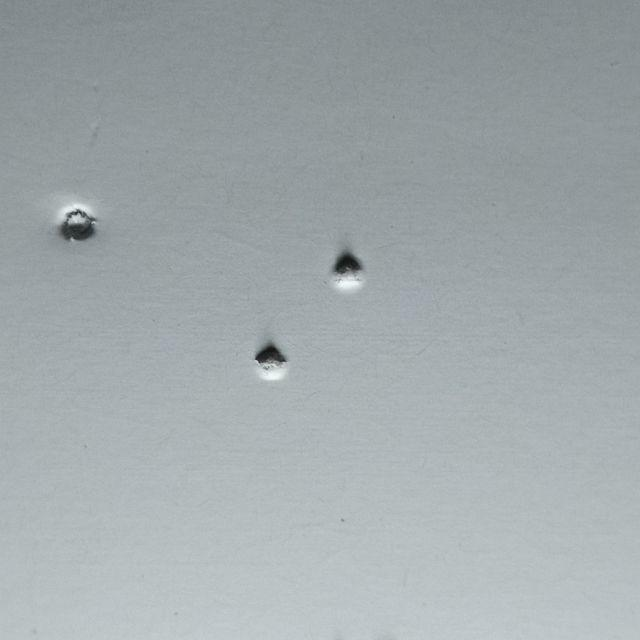A: (330, 247, 422, 385)
capital: (199, 251, 291, 388)
